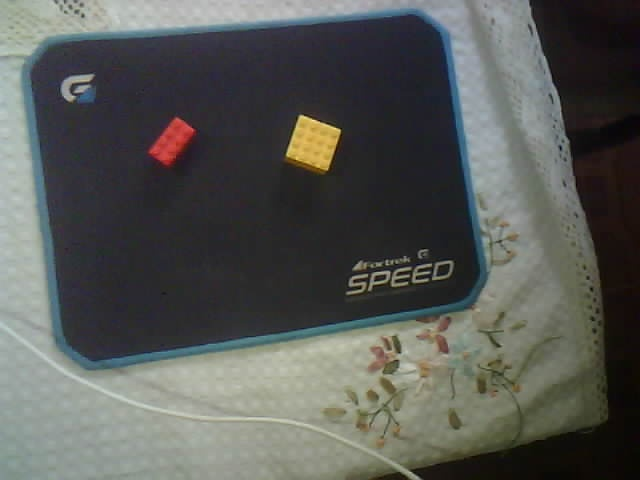lego: (283, 109, 343, 176), (145, 113, 197, 168)
